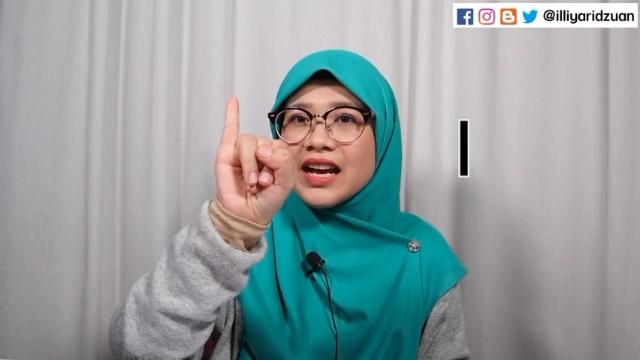I: (214, 92, 296, 222)
